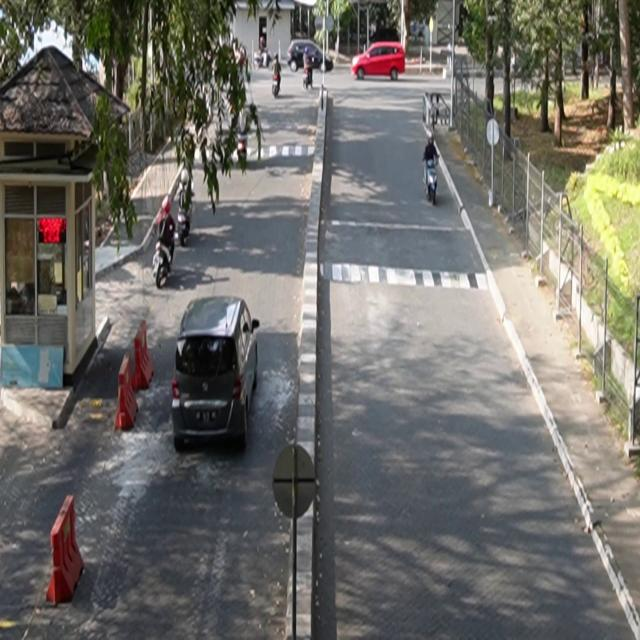car: (172, 296, 260, 452), (353, 42, 407, 81), (288, 40, 334, 74)
